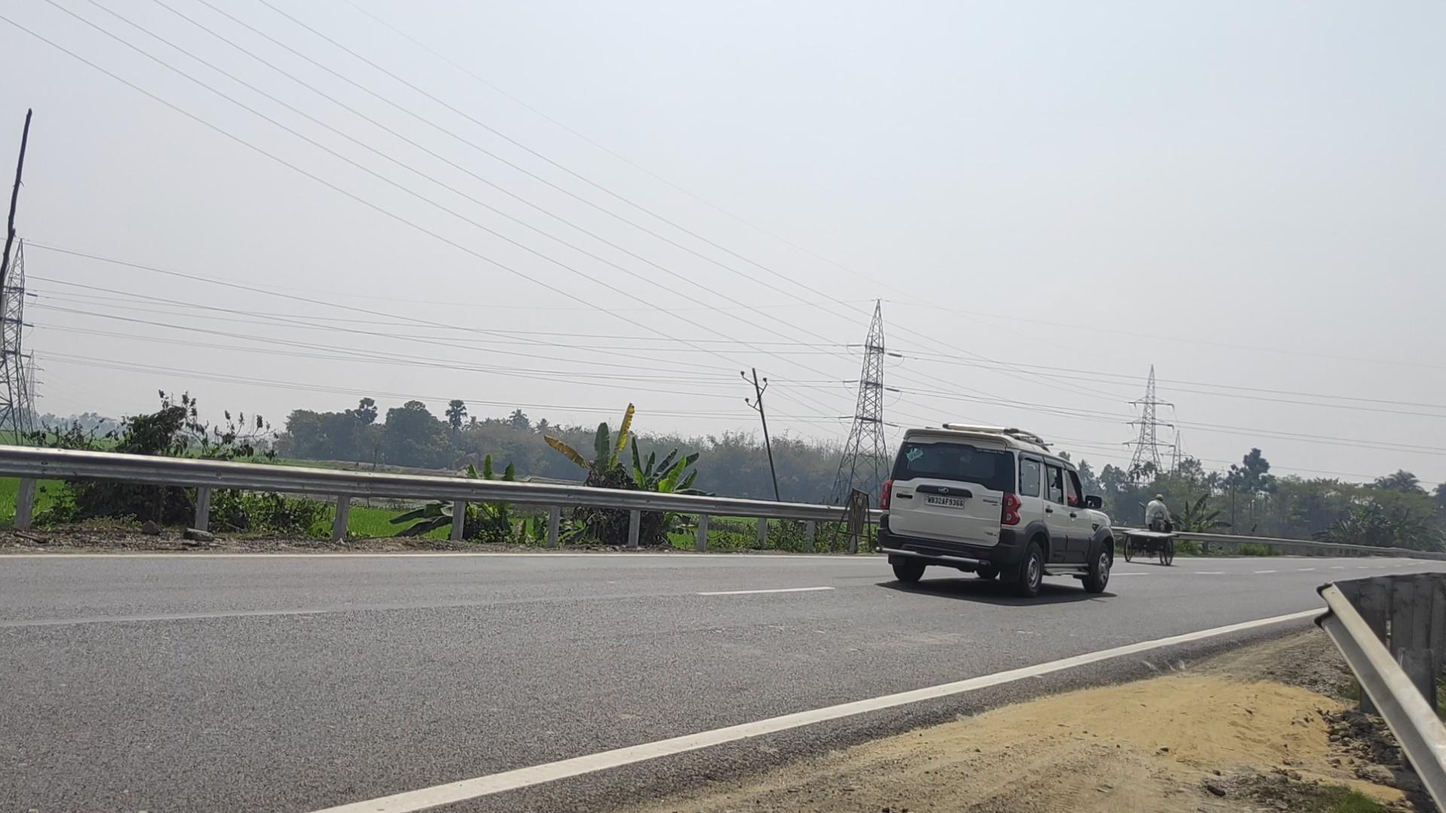car: (875, 422, 1115, 599)
